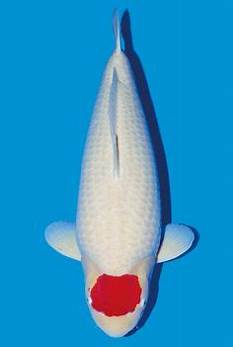sun: (43, 7, 196, 339)
